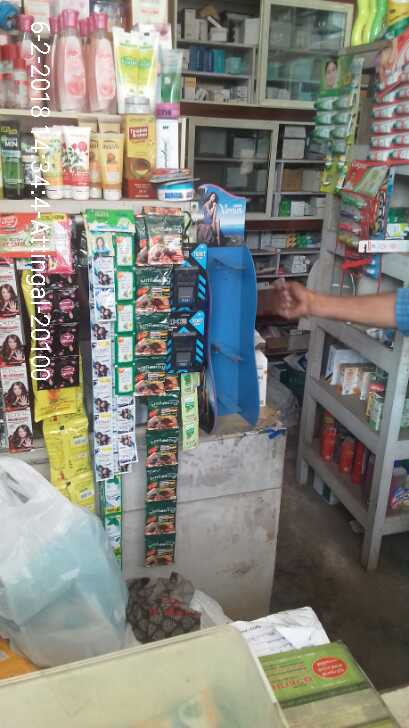reject: (188, 229, 274, 306)
